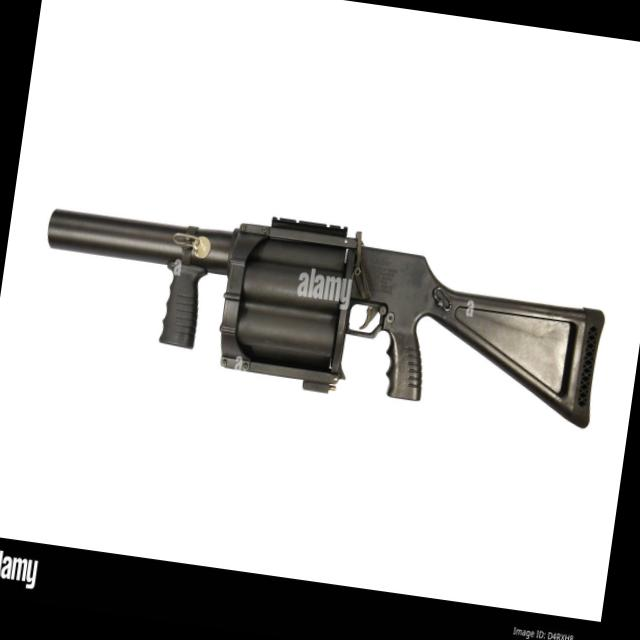Weapon: (19, 178, 631, 446)
